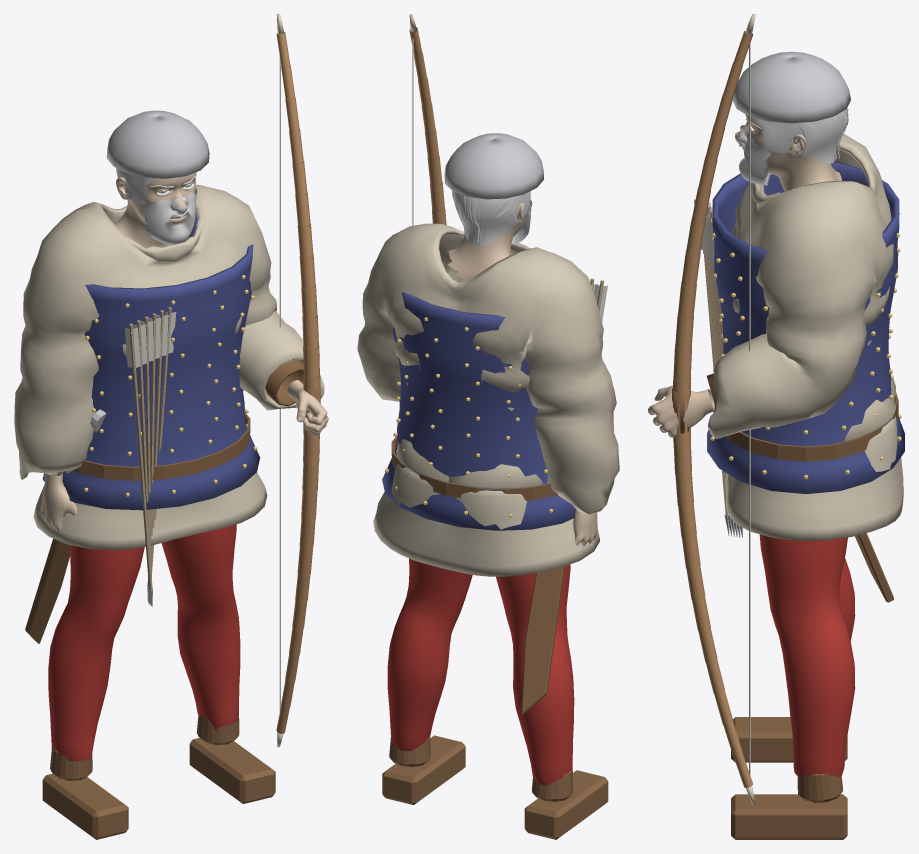
The model's file is SM_English_Tier3.fbx.
3 renders of one model, left to right at view 1: azimuth 30°, elevation 25°; view 2: azimuth 150°, elevation 25°; view 3: azimuth 270°, elevation 25°, orthographic. The views are drawn at different scales.
Visible parts, largest first — view 1: Padded Gambeson, Brigandine (Velvet), Wool Hose.001, Ankle Shoes, Yew Longbow, Cervelliere, Tier 3 Soldier, Arrow Shafts, Belt, Falchion Scabbard, Beard.002, Goose Fletching (+4 smaller); view 2: Padded Gambeson, Brigandine (Velvet), Wool Hose.001, Ankle Shoes, Cervelliere, Falchion Scabbard, Tier 3 Soldier, Hair.002, Yew Longbow, Belt, Brigandine Rivets; view 3: Padded Gambeson, Brigandine (Velvet), Wool Hose.001, Yew Longbow, Ankle Shoes, Cervelliere, Tier 3 Soldier, Hair.002, Belt, Arrow Shafts, Bowstring, Beard.002 (+3 smaller).
Part boxes in pixels (left/top/right/bottom): Padded Gambeson: left=14, top=184, right=324, bottom=550; Brigandine (Velvet): left=42, top=214, right=260, bottom=510; Wool Hose.001: left=48, top=524, right=240, bottom=761; Ankle Shoes: left=42, top=713, right=275, bottom=839; Yew Longbow: left=276, top=32, right=320, bottom=733; Cervelliere: left=106, top=110, right=209, bottom=178; Tier 3 Soldier: left=40, top=172, right=328, bottom=531; Arrow Shafts: left=129, top=307, right=171, bottom=591; Belt: left=73, top=413, right=250, bottom=480; Falchion Scabbard: left=25, top=538, right=69, bottom=643; Beard.002: left=141, top=188, right=197, bottom=244; Goose Fletching: left=125, top=312, right=176, bottom=372; Padded Gambeson: left=357, top=223, right=619, bottom=576; Brigandine (Velvet): left=382, top=292, right=575, bottom=530; Wool Hose.001: left=387, top=558, right=574, bottom=785; Ankle Shoes: left=382, top=735, right=608, bottom=839; Cervelliere: left=444, top=133, right=544, bottom=199; Falchion Scabbard: left=521, top=566, right=564, bottom=714; Tier 3 Soldier: left=446, top=198, right=597, bottom=546; Hair.002: left=452, top=191, right=530, bottom=246; Yew Longbow: left=409, top=27, right=446, bottom=225; Belt: left=391, top=436, right=558, bottom=500; Brigandine Rivets: left=385, top=317, right=553, bottom=517; Padded Gambeson: left=707, top=133, right=903, bottom=540; Brigandine (Velvet): left=707, top=162, right=904, bottom=493; Wool Hose.001: left=759, top=534, right=855, bottom=778; Yew Longbow: left=672, top=31, right=753, bottom=787; Ankle Shoes: left=731, top=717, right=847, bottom=839; Cervelliere: left=732, top=51, right=850, bottom=123; Tier 3 Soldier: left=648, top=114, right=841, bottom=437; Hair.002: left=757, top=108, right=849, bottom=163; Belt: left=713, top=392, right=898, bottom=461; Arrow Shafts: left=704, top=206, right=728, bottom=517; Bowstring: left=749, top=43, right=750, bottom=775; Beard.002: left=735, top=125, right=771, bottom=185.
Size of the model in its own units: 0.7301 by 0.5727 by 2.05.
